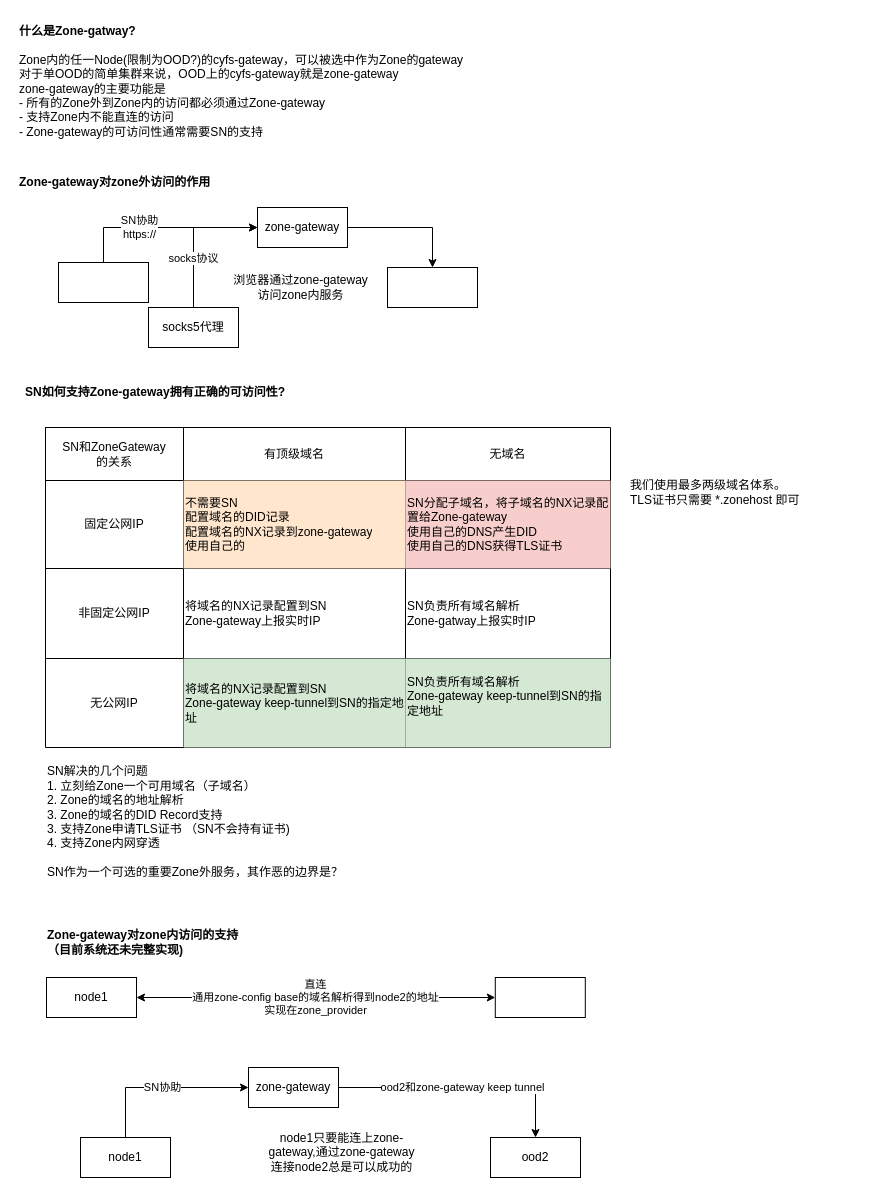
The diagram is 875 pixels wide and 1195 high, and some of its shapes have lost their labels. Each missing label, with the box of its shape:
node2: (494, 976, 585, 1018)
应用服务: (386, 266, 478, 308)
浏览器: (58, 262, 148, 302)
